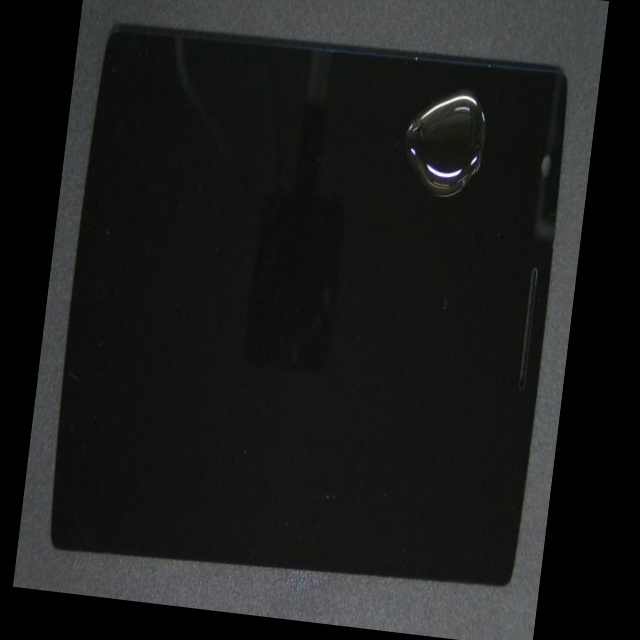oil: (298, 26, 602, 161)
